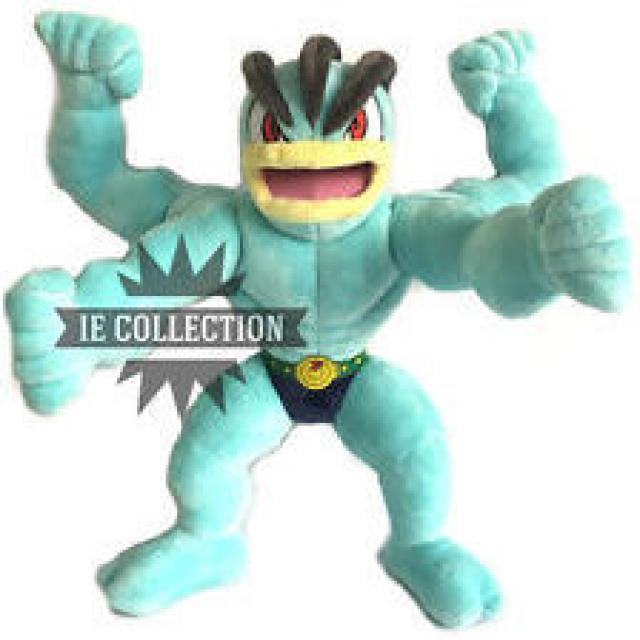Machamp: (76, 45, 520, 624)
